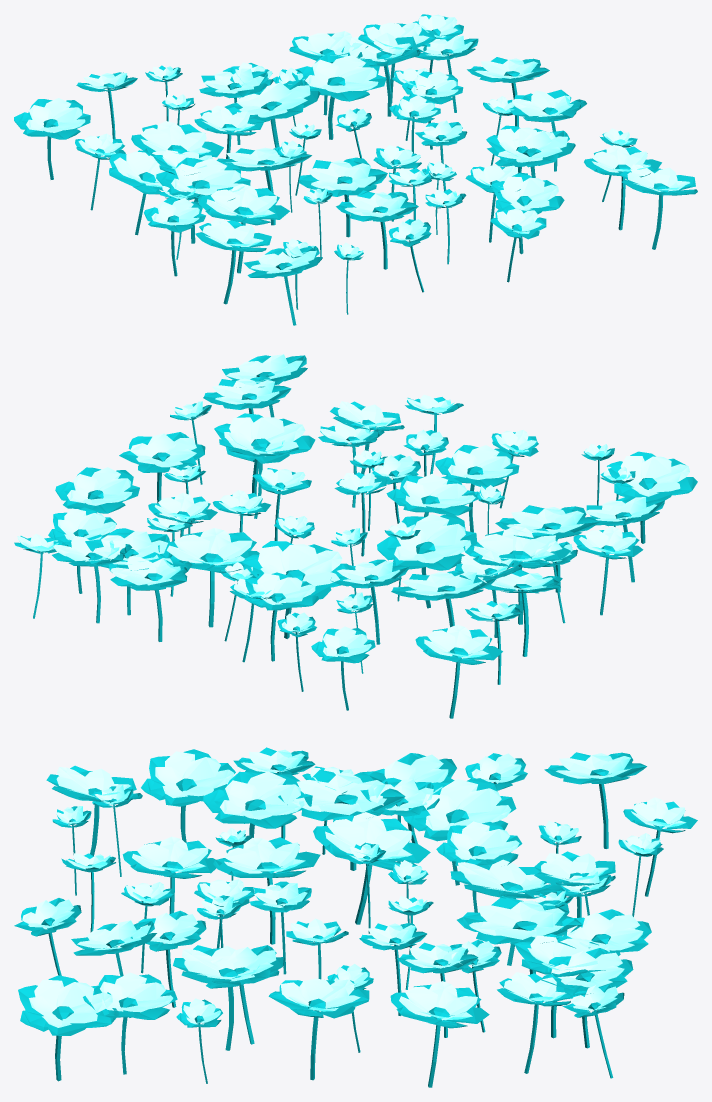
Rendered from Flowers.fbx.
The picture shows the model from 3 angles, top to bottom: view 1: azimuth 30°, elevation 25°; view 2: azimuth 150°, elevation 25°; view 3: azimuth 270°, elevation 25°; orthographic projection. The views are drawn at different scales.
Visible parts, largest first — view 1: Plane.002; view 2: Plane.002; view 3: Plane.002.
Part boxes in pixels (x1,y1,x2,y2): Plane.002: (14,14,697,325); Plane.002: (14,354,697,718); Plane.002: (14,747,697,1087).
Bounding box in the file's own units: 89.59 × 13.65 × 92.15.
